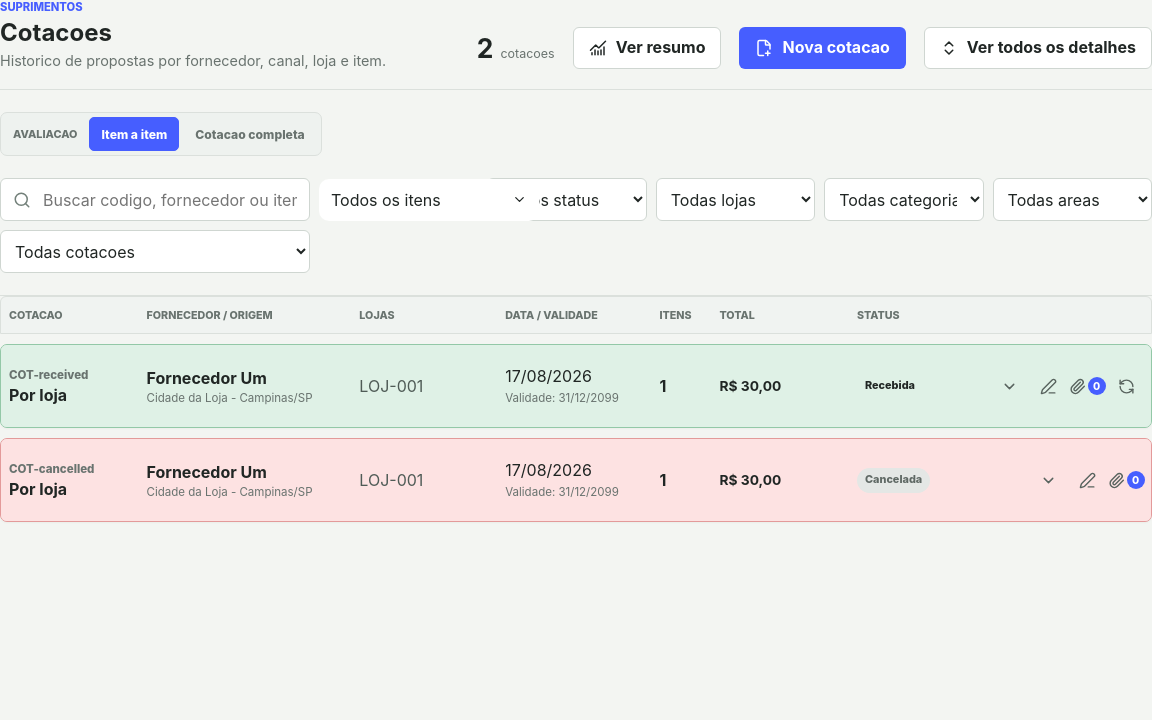
Test: SupplyQuotesPage › inclui canceladas no resumo quando o filtro de status estiver em cancelada
This screenshot has width=1152, height=720.
Check: the text "COT-received" is shown, box [9,368,88,382]
Select "Cancelada" in the dropdown named "Filtrar status". click: point(567, 200)
box: [487,178,647,221]
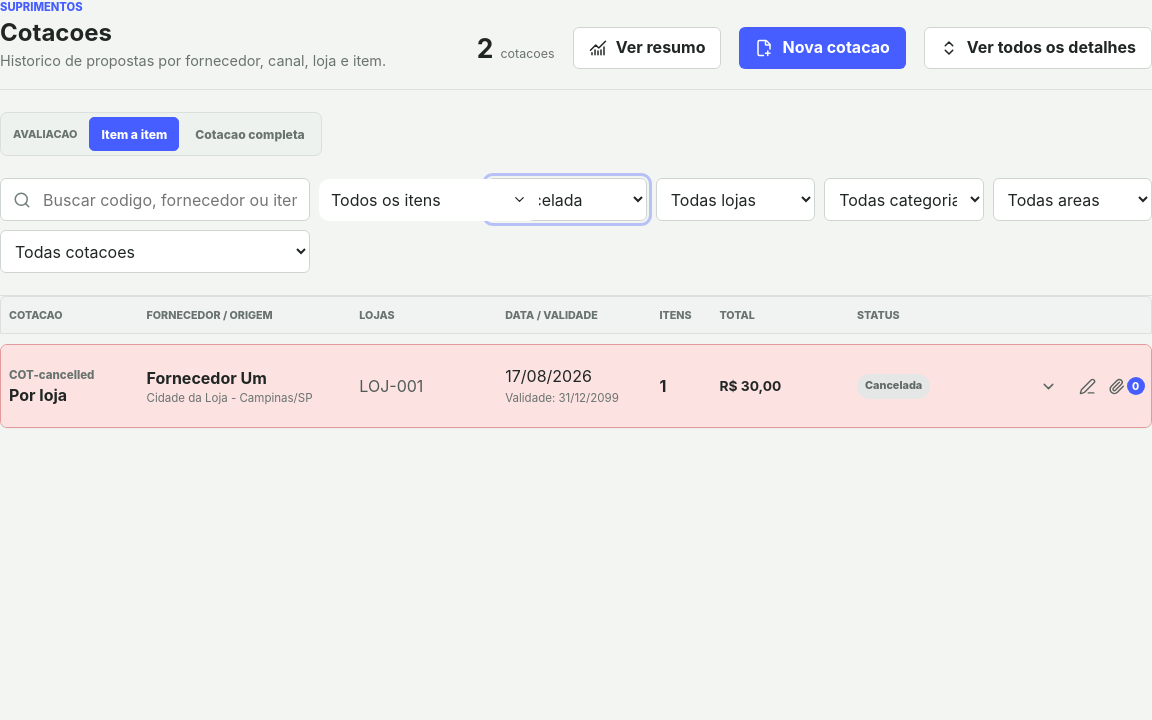
Click the button "Ver resumo". click: point(647, 48)
box: [573,27,722,69]
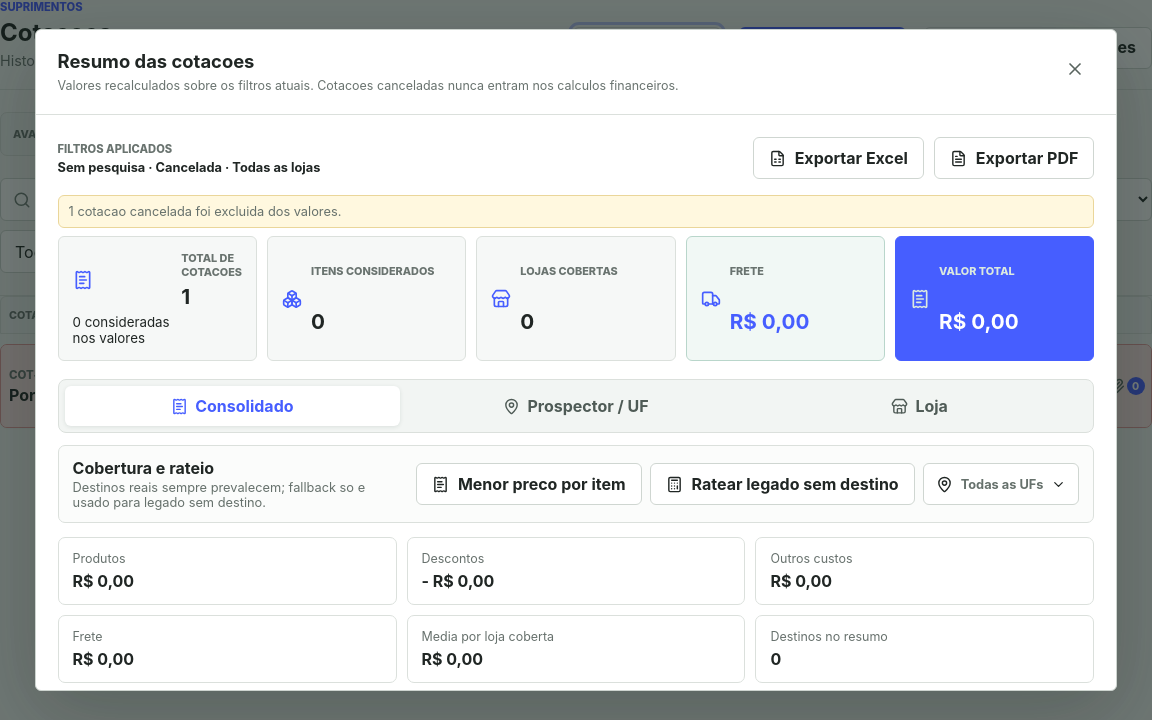
Check: the text "Sem pesquisa · Cancelada · Todas as lojas" is shown, box [58,160,320,175]
Check: the text "Total de cotacoes" is shown, box [181,251,242,279]
Check: the text "1" is shown, box [181,284,190,309]
